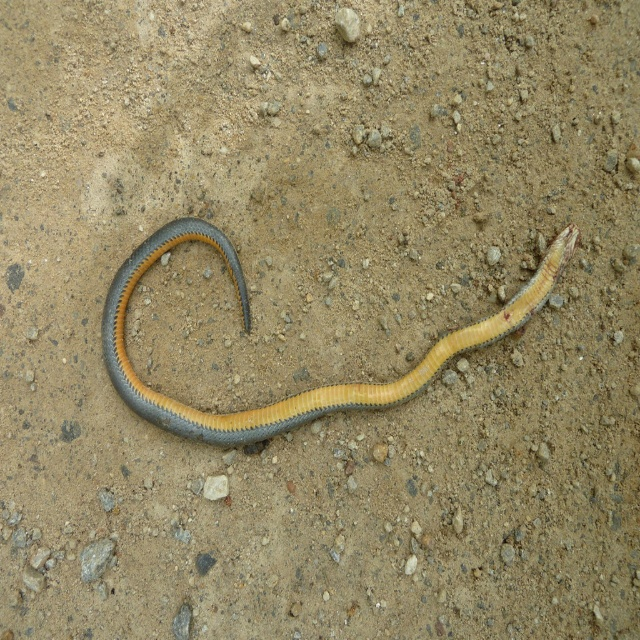Snake: (101, 214, 582, 449)
